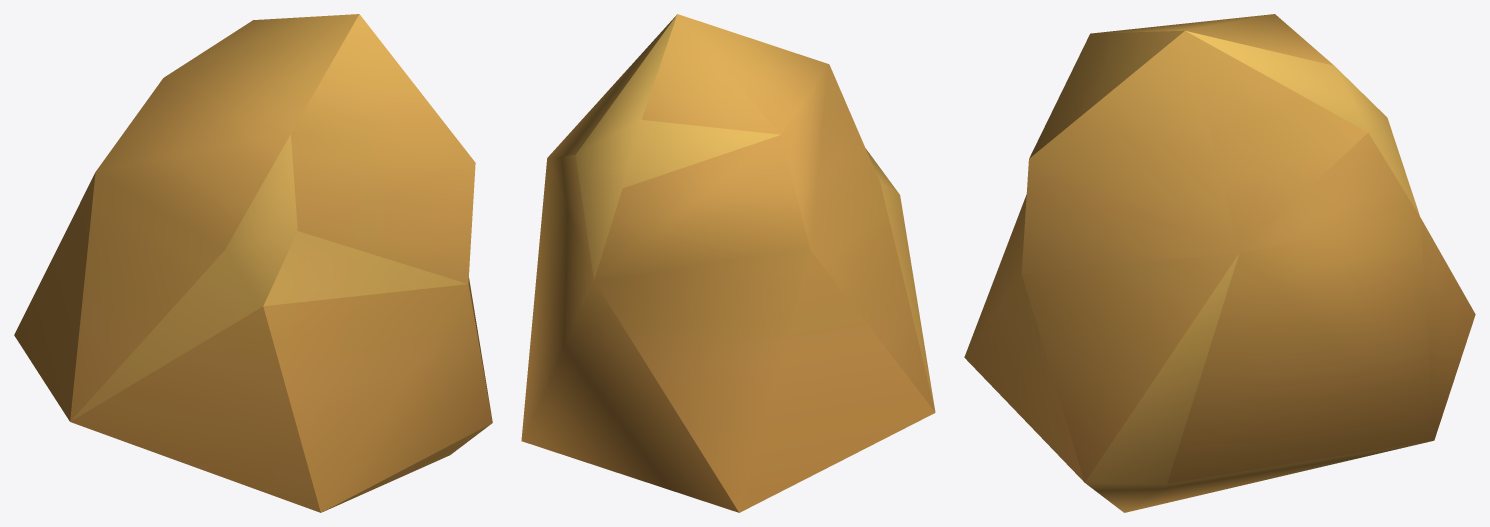
The model's file is gold_nugget_medium.glb.
The picture shows the model from 3 angles, left to right: view 1: azimuth 30°, elevation 25°; view 2: azimuth 150°, elevation 25°; view 3: azimuth 270°, elevation 25°; orthographic projection. The views are drawn at different scales.
Parts seen in each view (by area): view 1: Gold_Nugget_Medium; view 2: Gold_Nugget_Medium; view 3: Gold_Nugget_Medium.
Boxes of the visible parts, box(x1,y1,x2,y2) form: Gold_Nugget_Medium: box(14, 14, 492, 512); Gold_Nugget_Medium: box(521, 14, 935, 512); Gold_Nugget_Medium: box(964, 14, 1475, 512).
Bounding box in the file's own units: 0.2589 × 0.2781 × 0.2819.
Materials: 1 (1 with a texture image).
